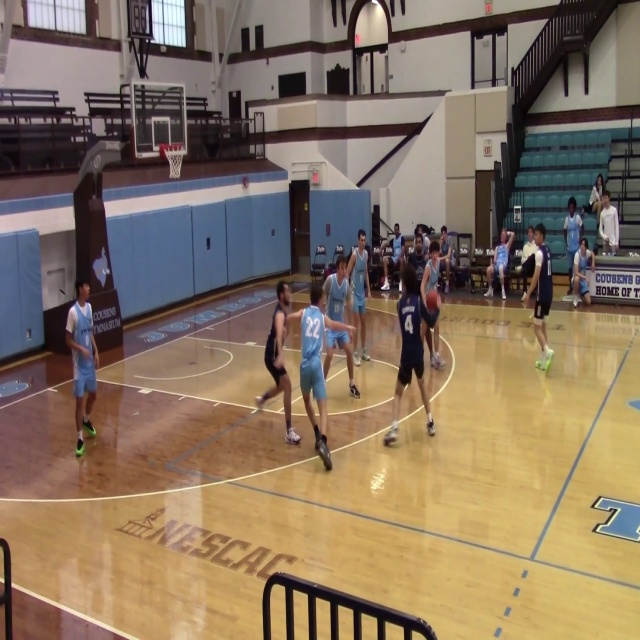Basketball: (425, 290, 438, 310)
